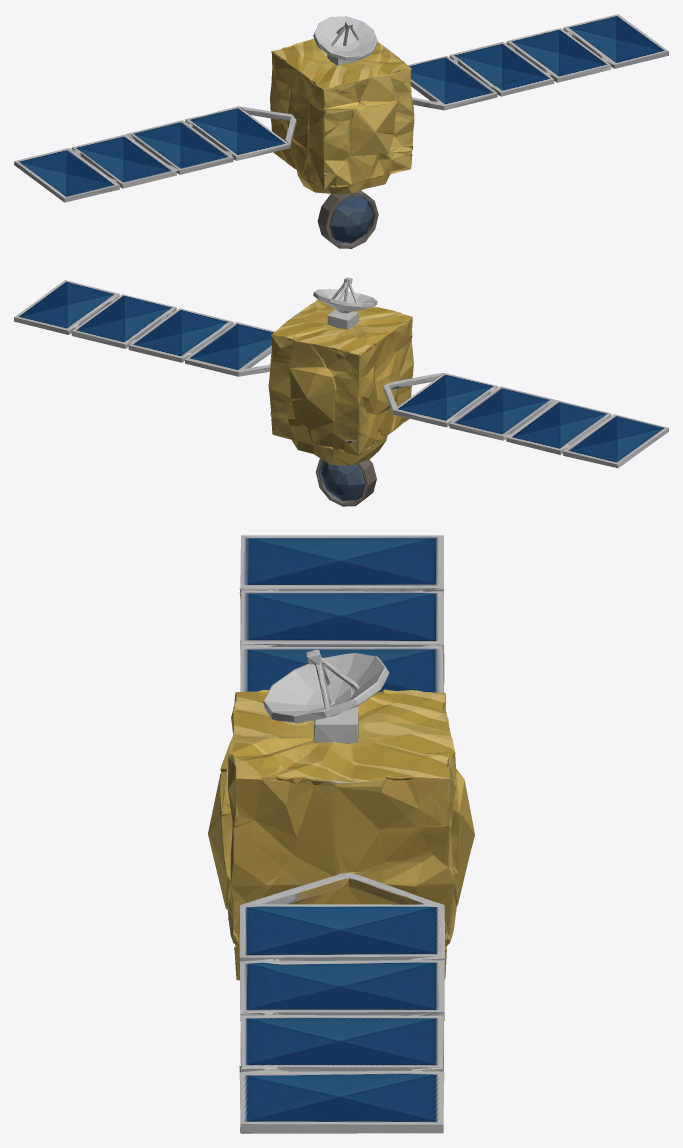
The model's file is V3_satellite_a.glb.
3 renders of one model, top to bottom at view 1: azimuth 30°, elevation 25°; view 2: azimuth 150°, elevation 25°; view 3: azimuth 270°, elevation 25°, orthographic. The views are drawn at different scales.
Parts seen in each view (by area): view 1: Mesh_0; view 2: Mesh_0; view 3: Mesh_0.
Part boxes in pixels (x1=…): Mesh_0: x1=14, y1=14, x2=668, y2=248; Mesh_0: x1=14, y1=277, x2=668, y2=506; Mesh_0: x1=208, y1=535, x2=474, y2=1133.
Bounding box in the file's own units: 2 × 0.7102 × 0.3829.
1 material, 1 textured.
